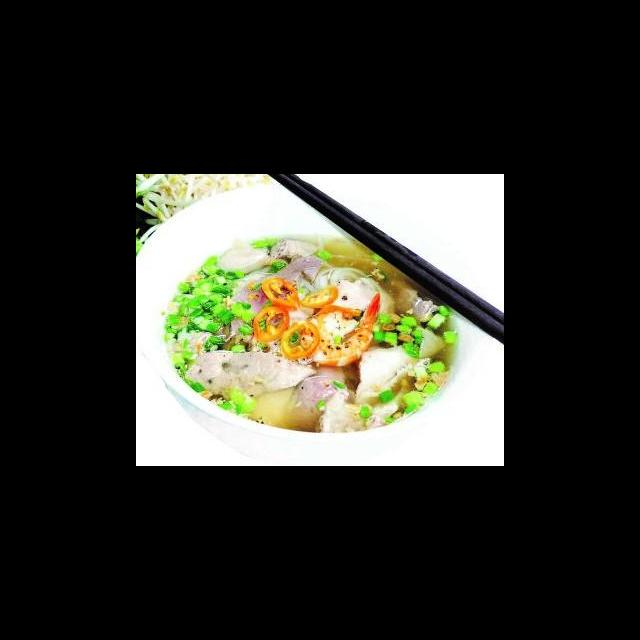thit heo: (216, 208, 290, 318)
tom: (255, 296, 362, 369)
